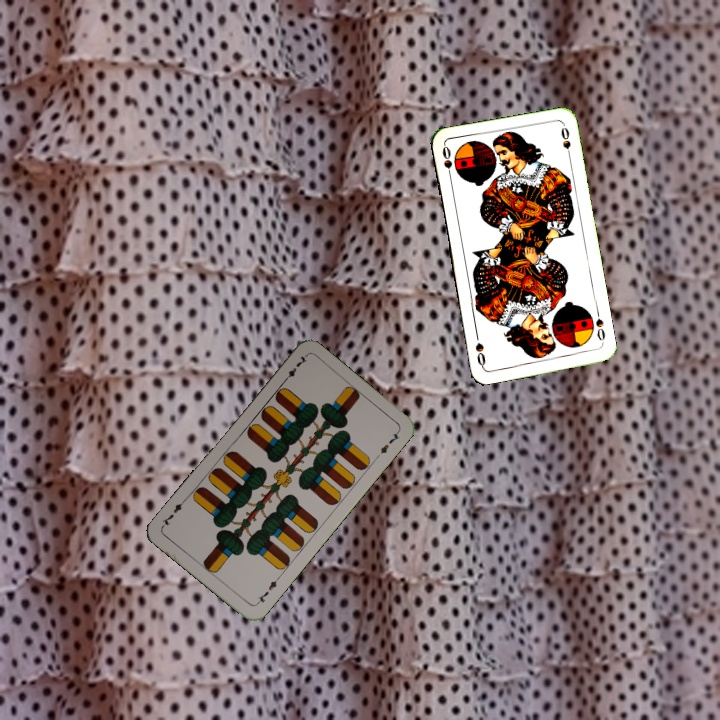E7: (279, 352, 310, 386), (252, 573, 282, 608)
SO: (438, 142, 455, 183), (592, 307, 608, 343)
